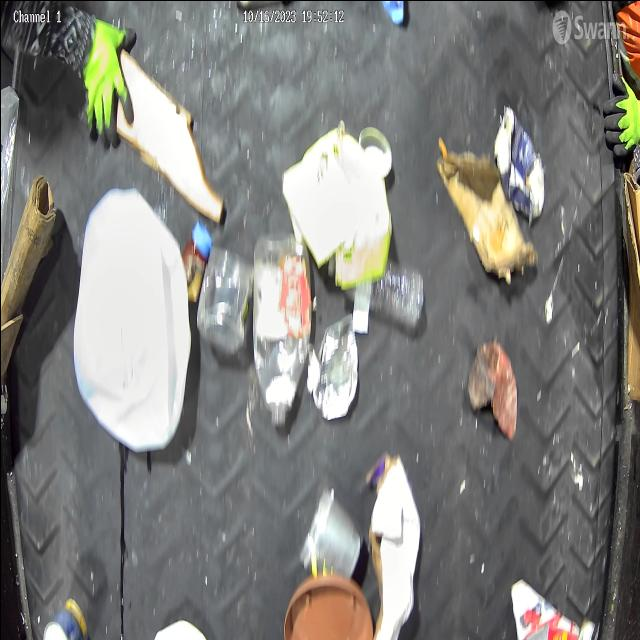can: (492, 96, 546, 216), (296, 484, 354, 578), (306, 319, 358, 423), (37, 600, 90, 640)
milk_jug: (75, 191, 185, 442)
non_white_jug: (115, 50, 227, 224)
plastic_bottle: (252, 230, 312, 436), (339, 248, 419, 324)
